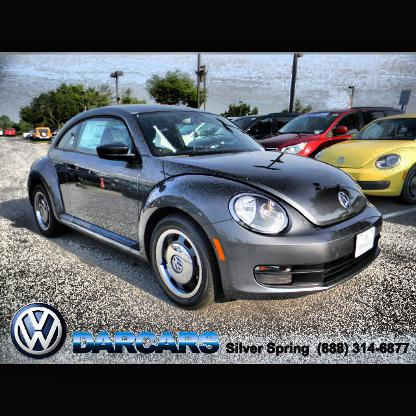Volkswagen Beetle Hatchback 2012: (26, 103, 382, 310)
